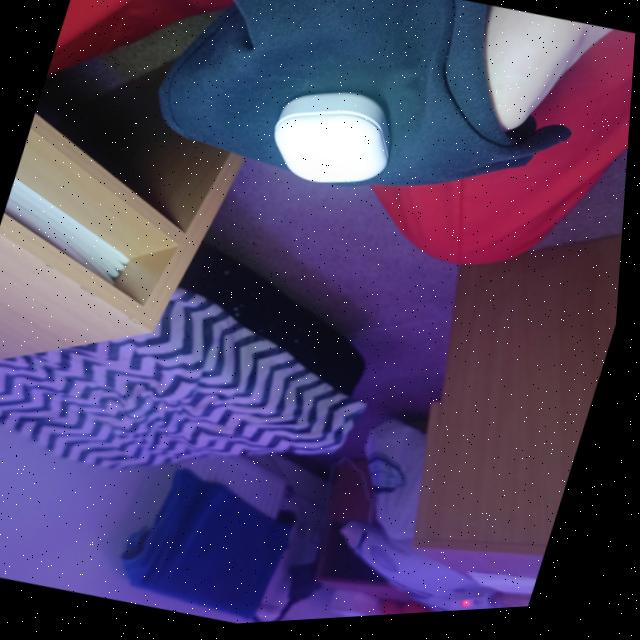headphones: (275, 96, 391, 186)
